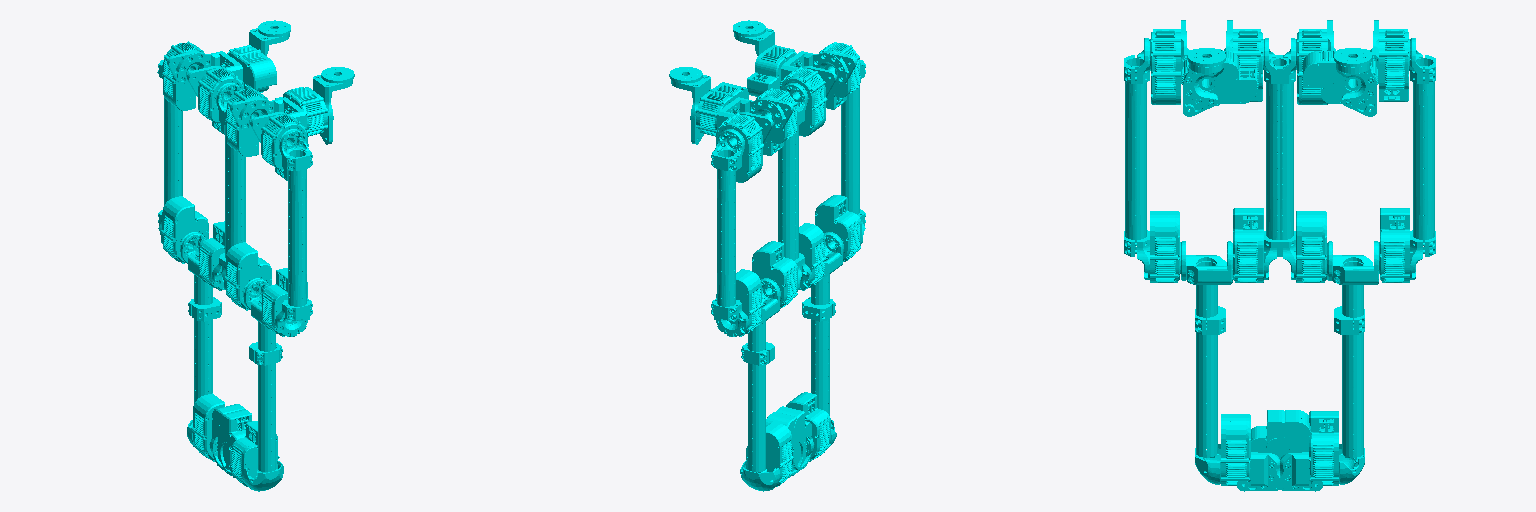
robot.urdf — Florence:
<robot name="Florence">
    ## WORLD
    <link name="World">
    </link>

    ## BASE LINK
    <link name="FloBase">
        <inertial>
            <origin xyz="0.0066 -0.0002 0.0545" rpy="0 0 0"/>
            <mass value="18.3700"/>
            <inertia ixx="0.1768"  ixy="-0.0010"  ixz="0.0231" iyy="0.1913" iyz="0" izz="0.2864" />
        </inertial>
        <visual>
            <origin xyz="0 0 0" rpy="0 0 0" />
            <geometry>
                <mesh filename="Base_rem.stl" />
            </geometry>
            <material name="Cyan">
                <color rgba="0 1.0 1.0 1.0"/>
            </material>
        </visual>

        #collision body base
        <collision>
            <origin xyz="0 0 0" rpy="0 0 0" />
            <geometry>
                <cylinder radius="0.301" length="0.038"/>
            </geometry>
        </collision>
        #collision body motor left
        <collision>
            <origin xyz="0.1680 0.0970 -0.0430" rpy="0 0 0.5236" />
            <geometry>
                <box size="0.1110 0.0740 0.0440"/>
            </geometry>
        </collision>
        #collision body motor right
        <collision>
            <origin xyz="0.1680 -0.0970 -0.0430" rpy="0 0 -0.5236" />
            <geometry>
                <box size="0.1110 0.0740 0.0440"/>
            </geometry>
        </collision>
    </link>

    #FLOJOINT
    <joint name="FloBaseJoint" type="fixed">
        <origin xyz="0 0 0.6624" rpy="0 0 0"/> #Optional
        <parent link="World"/> #Required
        <child link="FloBase"/> #Required
    </joint>

    ## LINK 1:
    # left
    <link name="Link1L">
        <inertial>
            <origin xyz="-0.0490 0.0102 0.0914" rpy="0 0 0"/>
            <mass value="0.7600"/>
            <inertia ixx="0.9643E-3"  ixy="9.6590e-05"  ixz="2.2060e-04" iyy="8.5310e-04" iyz="-1.3100e-05" izz="8.2910e-04" />
        </inertial>
        <visual>
            <origin xyz="0 0 0" rpy="0 0 0" />
            <geometry>
                <mesh filename="Link1L_rem.stl" />
            </geometry>
            <material name="Cyan">
                <color rgba="0 1.0 1.0 1.0"/>
            </material>
        </visual>

        #collision body holder
        <!--collision>
            <origin xyz="-0.0380 -0.0350 0.0451" rpy="0 0 0" />
            <geometry>
                <box size="1.55e-05	 4e-05  0.000105"/>
            </geometry>
        </collision-->
        #collision body motor
        <collision>
            <origin xyz="-0.0595    0.0185    0.1001" rpy="0 0 0" />
            <geometry>
                <box size="0.0440 0.1110 0.0740"/>
            </geometry>
        </collision>
    </link>

    <joint name="LefHipYaw" type="revolute">
        <origin xyz="0.1841 0.1063 -0.0210" rpy="3.1416 0 0"/>
        <parent link="FloBase"/>
        <child link="Link1L"/>
        <axis xyz="0 0 1" />
        <limit lower="-1.5708" upper="1.5708" effort="150" velocity="1.5"/>
    </joint>

    # right
    <link name="Link1R">
        <inertial>
            <origin xyz="-0.0490 0.0102 0.0914" rpy="0 0 0"/>
            <mass value="0.7600"/>
            <inertia ixx="9.6430e-04"  ixy="-5.4240e-05"  ixz="2.2610e-05" iyy="8.5310e-04" iyz="8.5980e-05" izz="8.2910e-04" />
        </inertial>
        <visual>
            <origin xyz="0 0 0" rpy="0 0 0" />
            <geometry>
                <mesh filename="Link1R_rem.stl" />
            </geometry>
            <material name="Cyan">
                <color rgba="0 1.0 1.0 1.0"/>
            </material>
        </visual>

        #collision body holder
        <!--collision>
           <origin xyz="-0.0380   -0.0250    0.0451" rpy="0 0 0" />
            <geometry>
                <box size="0.0155 0.0400 0.1050"/>
            </geometry>
        </collision-->
        #collision body motor
        <collision>
            <origin xyz="-0.0595   -0.0185    0.1001" rpy="0 0 0" />
            <geometry>
                <box size="0.0440 0.1110 0.0740"/>
            </geometry>
        </collision>
    </link>

    <joint name="RigHipYaw" type="revolute">
        <origin xyz="0.1841 -0.1063 -0.0210" rpy="3.1416 0 0"/>
        <parent link="FloBase"/>
        <child link="Link1R"/>
        <axis xyz="0 0 1" />
        <limit lower="-1.5708" upper="1.5708" effort="150" velocity="1.5"/>
    </joint>


    ## LINK 2:
    # left
    <link name="Link2L">
        <inertial>
            <origin xyz="0.0110 -0.0002 0.0951" rpy="0 0 0"/>
            <mass value="1.4279"/>
            <inertia ixx="0.0051"  ixy="0"  ixz="-0.0001" iyy="0.0017" iyz="0.0001" izz="0.0052" />
        </inertial>
        <visual>
            <origin xyz="0 0 0" rpy="0 0 0" />
            <geometry>
                <mesh filename="Link2_rem.stl" />
            </geometry>
            <material name="Cyan">
                <color rgba="0 1.0 1.0 1.0"/>
            </material>
        </visual>

        #collision body motor 1
        <collision>
           <origin xyz="0.0185 -0.0595 0.1001" rpy="0 0 0" />
            <geometry>
                <box size="0.1110 0.0440 0.0740"/>
            </geometry>
        </collision>
        #collision body motor 2
        <collision>
            <origin xyz="0.0185 0.0590 0.1001" rpy="0 0 0" />
            <geometry>
                <box size="0.1110 0.0440 0.0740"/>
            </geometry>
        </collision>
        #collision body holder
        <collision>
            <origin xyz="-0.0050 0 0.0975" rpy="0 0 0" />
            <geometry>
                <box size="0.0600 0.0750 0.1050"/>
            </geometry>
        </collision>
    </link>

    <joint name="LefHipRoll" type="revolute">
        <origin xyz="-0.0375 0 0.1001" rpy="0 -1.5708 0"/>
        <parent link="Link1L"/>
        <child link="Link2L"/>
        <axis xyz="0 0 1" />
        <limit lower="-1.5708" upper="1.5708" effort="150" velocity="1.5"/>
    </joint>

    # right
    <link name="Link2R">
        <inertial>
            <origin xyz="0.0110 -0.0002 0.0951" rpy="0 0 0"/>
            <mass value="1.4279"/>
            <inertia ixx="0.0051"  ixy="0"  ixz="-0.0001" iyy="0.0017" iyz="0.0001" izz="0.0052" />
        </inertial>
        <visual>
            <origin xyz="0 0 0" rpy="0 0 0" />
            <geometry>
                <mesh filename="Link2_rem.stl" />
            </geometry>
            <material name="Cyan">
                <color rgba="0 1.0 1.0 1.0"/>
            </material>
        </visual>

        #collision body motor 1
        <collision>
           <origin xyz="0.0185 -0.0595 0.1001" rpy="0 0 0" />
            <geometry>
                <box size="0.1110 0.0440 0.0740"/>
            </geometry>
        </collision>
        #collision body motor 2
        <collision>
            <origin xyz="0.0185 0.0590 0.1001" rpy="0 0 0" />
            <geometry>
                <box size="0.1110 0.0440 0.0740"/>
            </geometry>
        </collision>
        #collision body holder
        <collision>
            <origin xyz="-0.0050 0 0.0975" rpy="0 0 0" />
            <geometry>
                <box size="0.0600 0.0750 0.1050"/>
            </geometry>
        </collision>
    </link>

    <joint name="RigHipRoll" type="revolute">
        <origin xyz="-0.0375 0 0.1001" rpy="0 -1.5708 0"/>
        <parent link="Link1R"/>
        <child link="Link2R"/>
        <axis xyz="0 0 1" />
        <limit lower="-1.5708" upper="1.5708" effort="150" velocity="1.5"/>
    </joint>

    ## LINK 3:
    # left
    <link name="Link3L">
        <inertial>
            <origin xyz="0.2578 0 0" rpy="0 0 0"/>
            <mass value="1.7659"/>
            <inertia ixx="0.0109"  ixy="0"  ixz="0" iyy="0.0307" iyz="0" izz="0.0209" />
        </inertial>
        <visual>
            <origin xyz="0 0 0" rpy="0 0 0" />
            <geometry>
                <mesh filename="Link3_rtbox_rem.stl" />
            </geometry>
            <material name="Cyan">
                <color rgba="0 1.0 1.0 1.0"/>
            </material>
        </visual>

        #collision body motor 1
        <collision>
           <origin xyz="0.3070 0 -0.0605" rpy="0 0 0" />
            <geometry>
                <box size="0.1110 0.0740 0.0440"/>
            </geometry>
        </collision>
        #collision body motor 2
        <collision>
           <origin xyz="0.3070 0 0.0605" rpy="0 0 0" />
            <geometry>
                <box size="0.1110 0.0740 0.0440"/>
            </geometry>
        </collision>
        #collision body rod 1
        <collision>
           <origin xyz="0.1625 0 -0.1026" rpy="0 0 0" />
            <geometry>
                <box size="0.3000 0.0480 0.0350"/>
            </geometry>
        </collision>
        #collision body rod 2
        <collision>
           <origin xyz="0.1625 0 0.1026" rpy="0 0 0" />
            <geometry>
                <box size="0.3000 0.0480 0.0350"/>
            </geometry>
        </collision>
    </link>

    <joint name="LefHipPitch" type="revolute">
        <origin xyz="0 0 0.1001" rpy="-1.5708 0 0"/>
        <parent link="Link2L"/>
        <child link="Link3L"/>
        <axis xyz="0 0 1" />
        <limit lower="-1.5708" upper="1.5708" effort="150" velocity="1.5"/>
    </joint>

    # right
    <link name="Link3R">
        <inertial>
            <origin xyz="0.2578 0 0" rpy="0 0 0"/>
            <mass value="1.7659"/>
            <inertia ixx="0.0109"  ixy="0"  ixz="0" iyy="0.0307" iyz="0" izz="0.0209" />
        </inertial>
        <visual>
            <origin xyz="0 0 0" rpy="0 0 0" />
            <geometry>
                <mesh filename="Link3_rtbox_rem.stl" />
            </geometry>
            <material name="Cyan">
                <color rgba="0 1.0 1.0 1.0"/>
            </material>
        </visual>

        #collision body motor 1
        <collision>
           <origin xyz="0.3070 0 -0.0605" rpy="0 0 0" />
            <geometry>
                <box size="0.1110 0.0740 0.0440"/>
            </geometry>
        </collision>
        #collision body motor 2
        <collision>
           <origin xyz="0.3070 0 0.0605" rpy="0 0 0" />
            <geometry>
                <box size="0.1110 0.0740 0.0440"/>
            </geometry>
        </collision>
        #collision body rod 1
        <collision>
           <origin xyz="0.1625 0 -0.1026" rpy="0 0 0" />
            <geometry>
                <box size="0.3000 0.0480 0.0350"/>
            </geometry>
        </collision>
        #collision body rod 2
        <collision>
           <origin xyz="0.1625 0 0.1026" rpy="0 0 0" />
            <geometry>
                <box size="0.3000 0.0480 0.0350"/>
            </geometry>
        </collision>
    </link>

    <joint name="RigHipPitch" type="revolute">
        <origin xyz="0 0 0.1001" rpy="-1.5708 0 0"/>
        <parent link="Link2R"/>
        <child link="Link3R"/>
        <axis xyz="0 0 1" />
        <limit lower="-1.5708" upper="1.5708" effort="150" velocity="1.5"/>
    </joint>


    ## LINK 4:
    # left
    <link name="Link4L">
        <inertial>
            <origin xyz="0.1945 0.0003 -0.0137" rpy="0 0 0"/>
            <mass value="1.0127"/>
            <inertia ixx="0.0010"  ixy="0.0001"  ixz="-0.0020" iyy="0.0222" iyz="0" izz="0.0218" />
        </inertial>
        <visual>
            <origin xyz="0 0 0" rpy="0 0 0" />
            <geometry>
                <mesh filename="Link4L_rtbox_rem.stl" />
            </geometry>
            <material name="Cyan">
                <color rgba="0 1.0 1.0 1.0"/>
            </material>
        </visual>

        #collision body motor
        <collision>
           <origin xyz="0.3065 0 -0.0420" rpy="0 0 0" />
            <geometry>
                <box size="0.1110 0.0740 0.0440"/>
            </geometry>
        </collision>

        #collision body rod
        <collision>
           <origin xyz="0.1968 0 -0.0010" rpy="0 0 0" />
            <geometry>
                <box size="0.3225 0.0480 0.0370"/>
            </geometry>
        </collision>

        #collision body holder
        <collision>
           <origin xyz="0.0055 0 0" rpy="0 0 0" />
            <geometry>
                <box size="0.0600 0.0480 0.0749"/>
            </geometry>
        </collision>

    </link>

    <joint name="LefKneePitch" type="revolute">
        <origin xyz="0.3255 0 0" rpy="0 0 0"/>
        <parent link="Link3L"/>
        <child link="Link4L"/>
        <axis xyz="0 0 1" />
        <limit lower="-1.5708" upper="1.5708" effort="150" velocity="1.5"/>
    </joint>

    # right
    <link name="Link4R">
        <inertial>
            <origin xyz="0.1945 0.0003 -0.0137" rpy="0 0 0"/>
            <mass value="1.0127"/>
            <inertia ixx="0.0010"  ixy="-0.0001"  ixz="0.0020" iyy="0.0222" iyz="0" izz="0.0218" />
        </inertial>
        <visual>
            <origin xyz="0 0 0" rpy="0 0 0" />
            <geometry>
                <mesh filename="Link4R_rtbox_rem.stl" />
            </geometry>
            <material name="Cyan">
                <color rgba="0 1.0 1.0 1.0"/>
            </material>
        </visual>

        #collision body motor
        <collision>
           <origin xyz="0.3065 0 0.0420" rpy="0 0 0" />
            <geometry>
                <box size="0.1110 0.0740 0.0440"/>
            </geometry>
        </collision>

        #collision body rod
        <collision>
           <origin xyz="0.1968 0 -0.0010" rpy="0 0 0" />
            <geometry>
                <box size="0.3225 0.0480 0.0370"/>
            </geometry>
        </collision>

        #collision body holder
        <collision>
           <origin xyz="0.0055 0 0" rpy="0 0 0" />
            <geometry>
                <box size="0.0600 0.0480 0.0749"/>
            </geometry>
        </collision>

    </link>

    <joint name="RigKneePitch" type="revolute">
        <origin xyz="0.3255 0 0" rpy="0 0 0"/>
        <parent link="Link3R"/>
        <child link="Link4R"/>
        <axis xyz="0 0 1" />
        <limit lower="-1.5708" upper="1.5708" effort="150" velocity="1.5"/>
    </joint>

    ## LINK 5:
    # left
    <link name="Link5L">
        <inertial>
            <origin xyz="-0.0091 0.0112 0.0754" rpy="0 0 0"/>
            <mass value="0.5637"/>
            <inertia ixx="0.4810E-3"  ixy="-0.0306E-3"  ixz="0.0132E-3" iyy="0.7391E-3" iyz="-0.0105E-3" izz="0.4231E-3" />
        </inertial>
        <visual>
            <origin xyz="0 0 0" rpy="0 0 0" />
            <geometry>
                <mesh filename="Link5L_rem.stl" />
            </geometry>
            <material name="Cyan">
                <color rgba="0 1.0 1.0 1.0"/>
            </material>
        </visual>

        #collision body motor
        <collision>
           <origin xyz="-0.0185 0.0005 0.0990" rpy="0 0 0" />
            <geometry>
                <box size="0.1110 0.0440 0.0740"/>
            </geometry>
        </collision>

        #collision body holder
        <collision>
           <origin xyz="0.0050 0.0297 0.0965" rpy="0 0 0" />
            <geometry>
                <box size="0.0600 0.0155 0.1050"/>
            </geometry>
        </collision>

    </link>

    <joint name="LefAnklePitch" type="revolute">
        <origin xyz="0.3250 0 0.0200" rpy="0 0 0"/>
        <parent link="Link4L"/>
        <child link="Link5L"/>
        <axis xyz="0 0 1" />
        <limit lower="-1.5708" upper="1.5708" effort="150" velocity="1.5"/>
    </joint>

    # right
    <link name="Link5R">
        <inertial>
            <origin xyz="-0.0091 -0.0112 0.0777" rpy="0 0 0"/>
            <mass value="0.5637"/>
            <inertia ixx="0.5050E-3"  ixy="0.0306E-3"  ixz="0.0676E-3" iyy="0.7631E-3" iyz="0.0061E-3" izz="0.4231E-3" />
        </inertial>
        <visual>
            <origin xyz="0 0 0" rpy="0 0 0" />
            <geometry>
                <mesh filename="Link5R_rem.stl" />
            </geometry>
            <material name="Cyan">
                <color rgba="0 1.0 1.0 1.0"/>
            </material>
        </visual>

        #collision body motor
        <collision>
           <origin xyz="-0.0185 -0.0010 0.0990" rpy="0 0 0" />
            <geometry>
                <box size="0.1110 0.0440 0.0740"/>
            </geometry>
        </collision>

        #collision body holder
        <collision>
           <origin xyz="0.0050 -0.0297 0.0965" rpy="0 0 0" />
            <geometry>
                <box size="0.0600 0.0155 0.1050"/>
            </geometry>
        </collision>

    </link>

    <joint name="RigAnklePitch" type="revolute">
        <origin xyz="0.3250 0 -0.0200" rpy="3.1416 0 0"/>
        <parent link="Link4R"/>
        <child link="Link5R"/>
        <axis xyz="0 0 1" />
        <limit lower="-1.5708" upper="1.5708" effort="150" velocity="1.5"/>
    </joint>


    ## LINK 6:
    # left
    <link name="Link6L">
        <inertial>
            <origin xyz="0.0712 0.0002 0.0266" rpy="0 0 0"/>
            <mass value="1.2731"/>
            <inertia ixx="0.0083"  ixy="0"  ixz="0.0003" iyy="0.0061" iyz="0" izz="0.0035" />
        </inertial>
        <visual>
            <origin xyz="0 0 0" rpy="0 0 0" />
            <geometry>
                <mesh filename="Link6_rem.stl" />
            </geometry>
            <material name="Cyan">
                <color rgba="0 1.0 1.0 1.0"/>
            </material>
        </visual>

        #collision body foot
        <collision>
           <origin xyz="0.1008 0 0.0330" rpy="0 0 0" />
            <geometry>
                <box size="0.0367 0.1490 0.1670"/>
            </geometry>
        </collision>
    </link>

    <joint name="LefAnkleRoll" type="revolute">
        <origin xyz="0 0.0230 0.1001" rpy="1.5708 0 0"/>
        <parent link="Link5L"/>
        <child link="Link6L"/>
        <axis xyz="0 0 1" />
        <limit lower="-1.5708" upper="1.5708" effort="150" velocity="1.5"/>
    </joint>

    # right
    <link name="Link6R">
        <inertial>
            <origin xyz="0.0712 -0.0002 0.0266" rpy="0 0 0"/>
            <mass value="1.2731"/>
            <inertia ixx="0.0083"  ixy="0"  ixz="0.0003" iyy="0.0061" iyz="0" izz="0.0035" />
        </inertial>
        <visual>
            <origin xyz="0 0 0" rpy="0 0 0" />
            <geometry>
                <mesh filename="Link6_rem.stl" />
            </geometry>
            <material name="Cyan">
                <color rgba="0 1.0 1.0 1.0"/>
            </material>
        </visual>

        #collision body foot
        <collision>
           <origin xyz="0.1008 0 0.0330" rpy="0 0 0" />
            <geometry>
                <box size="0.0367 0.1490 0.1670"/>
            </geometry>
        </collision>
    </link>

    <joint name="RigAnkleRoll" type="revolute">
        <origin xyz="0 -0.0230 0.1001" rpy="-1.5708 0 0"/>
        <parent link="Link5R"/>
        <child link="Link6R"/>
        <axis xyz="0 0 1" />
        <limit lower="-1.5708" upper="1.5708" effort="150" velocity="1.5"/>
    </joint>

    ## END EFFECTOR:
    # left
    <link name="EE_L">
        <inertial>
            <origin xyz="0 0 0" rpy="0 0 0"/>
            <mass value="0"/>
            <inertia ixx="0"  ixy="0"  ixz="0" iyy="0" iyz="0" izz="0" />
        </inertial>
    </link>

    <joint name="EndEffectorL" type="fixed">
        <origin xyz="0.1192 0 0.0331" rpy="0 1.5708 3.1416"/>
        <parent link="Link6L"/>
        <child link="EE_L"/>
        <axis xyz="0 0 1" />
    </joint>

    # right
    <link name="EE_R">
        <inertial>
            <origin xyz="0 0 0" rpy="0 0 0"/>
            <mass value="0"/>
            <inertia ixx="0"  ixy="0"  ixz="0" iyy="0" iyz="0" izz="0" />
        </inertial>
    </link>

    <joint name="EndEffectorR" type="fixed">
        <origin xyz="0.1192 0 0.0331" rpy="0 1.5708 3.1416"/>
        <parent link="Link6R"/>
        <child link="EE_R"/>
        <axis xyz="0 0 1" />
    </joint>

    ## LOAD CELLS LEFT:
    <link name="LC_L1">
        <inertial>
            <origin xyz="0 0 0" rpy="0 0 0"/>
            <mass value="0"/>
            <inertia ixx="0"  ixy="0"  ixz="0" iyy="0" iyz="0" izz="0" />
        </inertial>
    </link>

    <link name="LC_L2">
        <inertial>
            <origin xyz="0 0 0" rpy="0 0 0"/>
            <mass value="0"/>
            <inertia ixx="0"  ixy="0"  ixz="0" iyy="0" iyz="0" izz="0" />
        </inertial>
    </link>

    <link name="LC_L3">
        <inertial>
            <origin xyz="0 0 0" rpy="0 0 0"/>
            <mass value="0"/>
            <inertia ixx="0"  ixy="0"  ixz="0" iyy="0" iyz="0" izz="0" />
        </inertial>
    </link>

    <link name="LC_L4">
        <inertial>
            <origin xyz="0 0 0" rpy="0 0 0"/>
            <mass value="0"/>
            <inertia ixx="0"  ixy="0"  ixz="0" iyy="0" iyz="0" izz="0" />
        </inertial>
    </link>

    <joint name="LC_L1joint" type="fixed">
        <origin xyz="0.0520 0.0460 0" rpy="0 0 0"/>
        <parent link="EE_L"/>
        <child link="LC_L1"/>
        <axis xyz="0 0 1" />
    </joint>

    <joint name="LC_L2joint" type="fixed">
        <origin xyz="0.0520 -0.0460 0" rpy="0 0 0"/>
        <parent link="EE_L"/>
        <child link="LC_L2"/>
        <axis xyz="0 0 1" />
    </joint>

    <joint name="LC_L3joint" type="fixed">
        <origin xyz="-0.0520 -0.0460 0" rpy="0 0 0"/>
        <parent link="EE_L"/>
        <child link="LC_L3"/>
        <axis xyz="0 0 1" />
    </joint>

    <joint name="LC_L4joint" type="fixed">
        <origin xyz="-0.0520 0.0460 0" rpy="0 0 0"/>
        <parent link="EE_L"/>
        <child link="LC_L4"/>
        <axis xyz="0 0 1" />
    </joint>

    ## LOAD CELLS RIGHT:
    <link name="LC_R1">
        <inertial>
            <origin xyz="0 0 0" rpy="0 0 0"/>
            <mass value="0"/>
            <inertia ixx="0"  ixy="0"  ixz="0" iyy="0" iyz="0" izz="0" />
        </inertial>
    </link>

    <link name="LC_R2">
        <inertial>
            <origin xyz="0 0 0" rpy="0 0 0"/>
            <mass value="0"/>
            <inertia ixx="0"  ixy="0"  ixz="0" iyy="0" iyz="0" izz="0" />
        </inertial>
    </link>

    <link name="LC_R3">
        <inertial>
            <origin xyz="0 0 0" rpy="0 0 0"/>
            <mass value="0"/>
            <inertia ixx="0"  ixy="0"  ixz="0" iyy="0" iyz="0" izz="0" />
        </inertial>
    </link>

    <link name="LC_R4">
        <inertial>
            <origin xyz="0 0 0" rpy="0 0 0"/>
            <mass value="0"/>
            <inertia ixx="0"  ixy="0"  ixz="0" iyy="0" iyz="0" izz="0" />
        </inertial>
    </link>

    <joint name="LC_R1joint" type="fixed">
        <origin xyz="0.0520 0.0460 0" rpy="0 0 0"/>
        <parent link="EE_R"/>
        <child link="LC_R1"/>
        <axis xyz="0 0 1" />
    </joint>

    <joint name="LC_R2joint" type="fixed">
        <origin xyz="0.0520 -0.0460 0" rpy="0 0 0"/>
        <parent link="EE_R"/>
        <child link="LC_R2"/>
        <axis xyz="0 0 1" />
    </joint>

    <joint name="LC_R3joint" type="fixed">
        <origin xyz="-0.0520 -0.0460 0" rpy="0 0 0"/>
        <parent link="EE_R"/>
        <child link="LC_R3"/>
        <axis xyz="0 0 1" />
    </joint>

    <joint name="LC_R4joint" type="fixed">
        <origin xyz="-0.0520 0.0460 0" rpy="0 0 0"/>
        <parent link="EE_R"/>
        <child link="LC_R4"/>
        <axis xyz="0 0 1" />
    </joint>
</robot>

--- What the picture shows (computed from the rendered views, not written in the file) ---
The picture shows the robot from 3 angles, left to right: view 1: azimuth 30°, elevation 25°; view 2: azimuth 150°, elevation 25°; view 3: azimuth 270°, elevation 25°; orthographic projection.
Robot: Florence — 24 links, 23 joints (12 revolute, 11 fixed); root link World; default pose: all joints at 0.
Visible links, largest first — view 1: Link3R, Link3L, Link4R, Link4L, Link2R, Link2L, Link1R, Link1L, Link5L, Link5R; view 2: Link3L, Link3R, Link4L, Link4R, Link2L, Link2R, Link1L, Link1R, Link5L, Link5R; view 3: Link3L, Link3R, Link4L, Link4R, Link2R, Link2L, Link1R, Link1L, Link5R, Link5L.
Boxes of the visible links, x1,y1,x2,y2 form: Link3R: (222,106,312,336); Link3L: (157,60,241,290); Link4R: (232,277,283,491); Link4L: (179,231,224,461); Link2R: (225,88,308,180); Link2L: (162,41,243,134); Link1R: (275,67,354,144); Link1L: (227,20,290,92); Link5L: (209,409,251,477); Link5R: (212,404,244,470); Link3L: (711,106,801,336); Link3R: (782,60,865,290); Link4L: (740,277,793,491); Link4R: (786,231,844,461); Link2L: (716,88,796,182); Link2R: (780,42,860,136); Link1L: (669,67,748,144); Link1R: (733,20,796,96); Link5L: (776,406,812,472); Link5R: (766,412,814,477); Link3L: (1271,38,1435,282); Link3R: (1124,38,1288,282); Link4L: (1309,241,1379,485); Link4R: (1180,241,1250,485); Link2R: (1151,20,1262,104); Link2L: (1297,20,1408,104); Link1R: (1182,48,1256,116); Link1L: (1303,48,1377,116); Link5R: (1251,410,1322,491); Link5L: (1237,410,1308,491).
Size in the robot's own frame: 0.2155 by 0.4527 by 0.7491 metres.
10 mesh visuals loaded from 10 distinct referenced files (8 binary STL); not drawn: 3 (reference not matched to a file when rendering).
